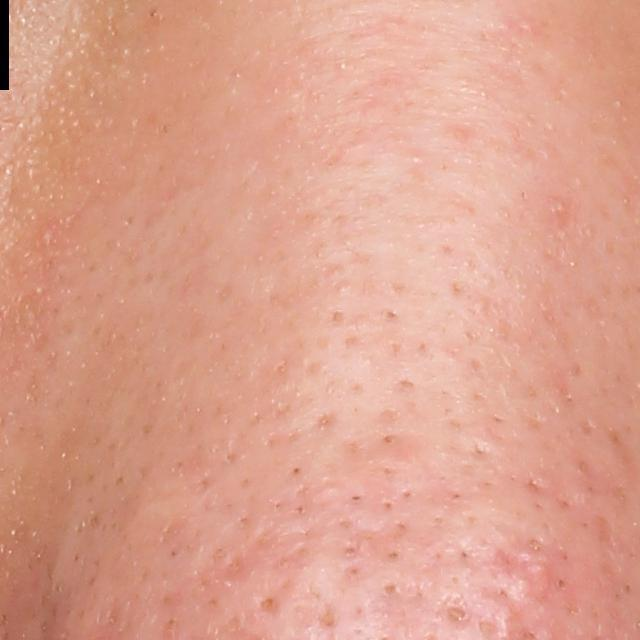comedo: (442, 602, 473, 631), (252, 593, 281, 617), (378, 428, 403, 453)
